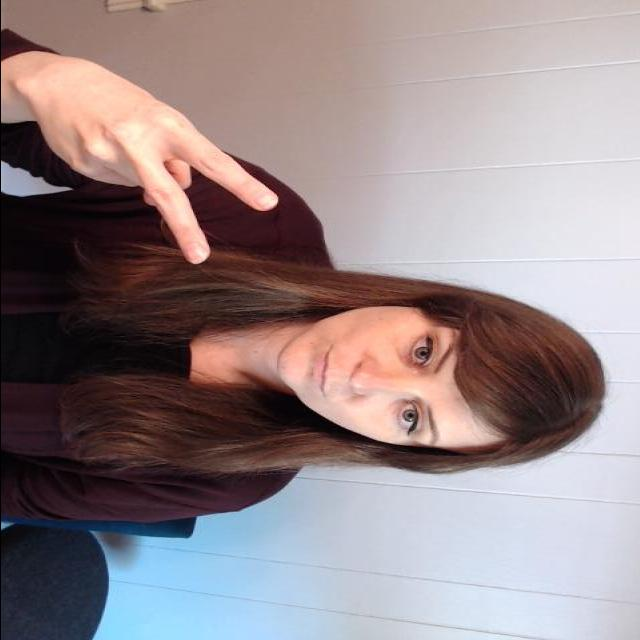Scissors: (34, 68, 280, 262)
